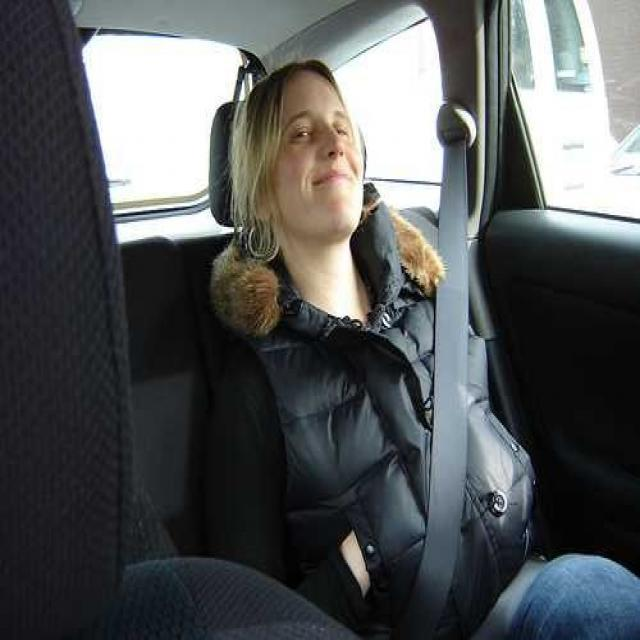seatbelt: (370, 102, 496, 613)
